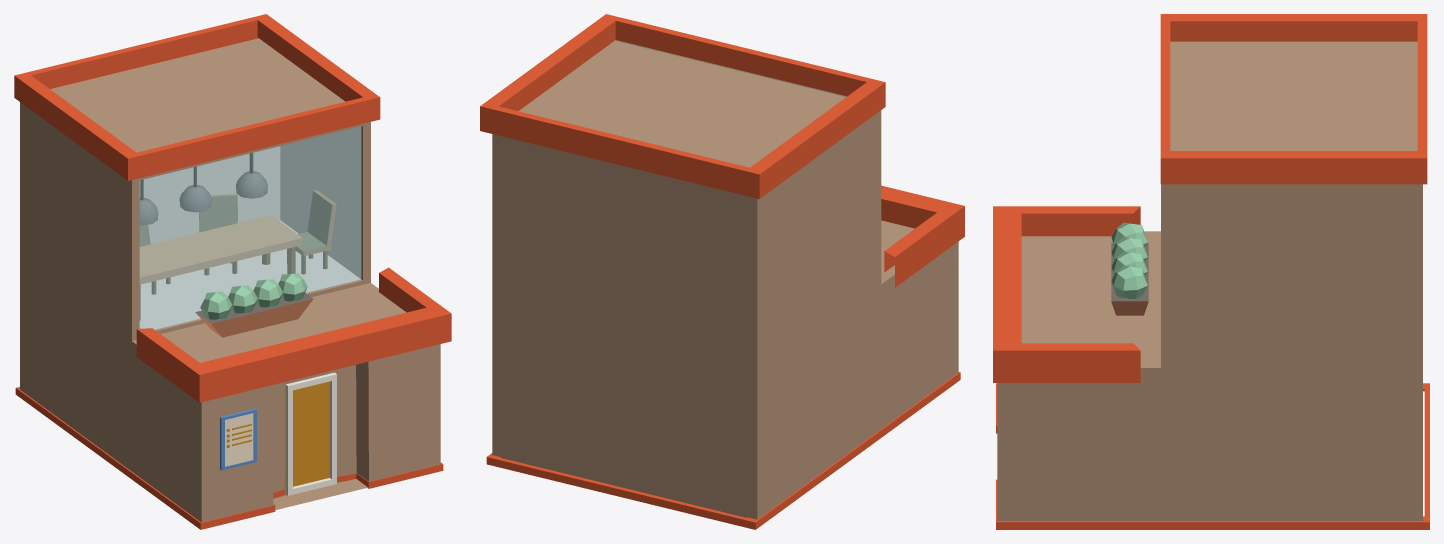
The model's file is office.fbx.
3 views of the same model, side by side, from view 1: azimuth 30°, elevation 25°; view 2: azimuth 150°, elevation 25°; view 3: azimuth 270°, elevation 25° (orthographic). The views are drawn at different scales.
Parts seen in each view (by area): view 1: polySurface457; view 2: polySurface457; view 3: polySurface457.
Boxes of the visible parts, bbox=[...] form: polySurface457: bbox=[14, 14, 451, 529]; polySurface457: bbox=[480, 14, 964, 529]; polySurface457: bbox=[993, 14, 1429, 529].
Size of the model in its own units: 3.04 by 3.69 by 3.89.
